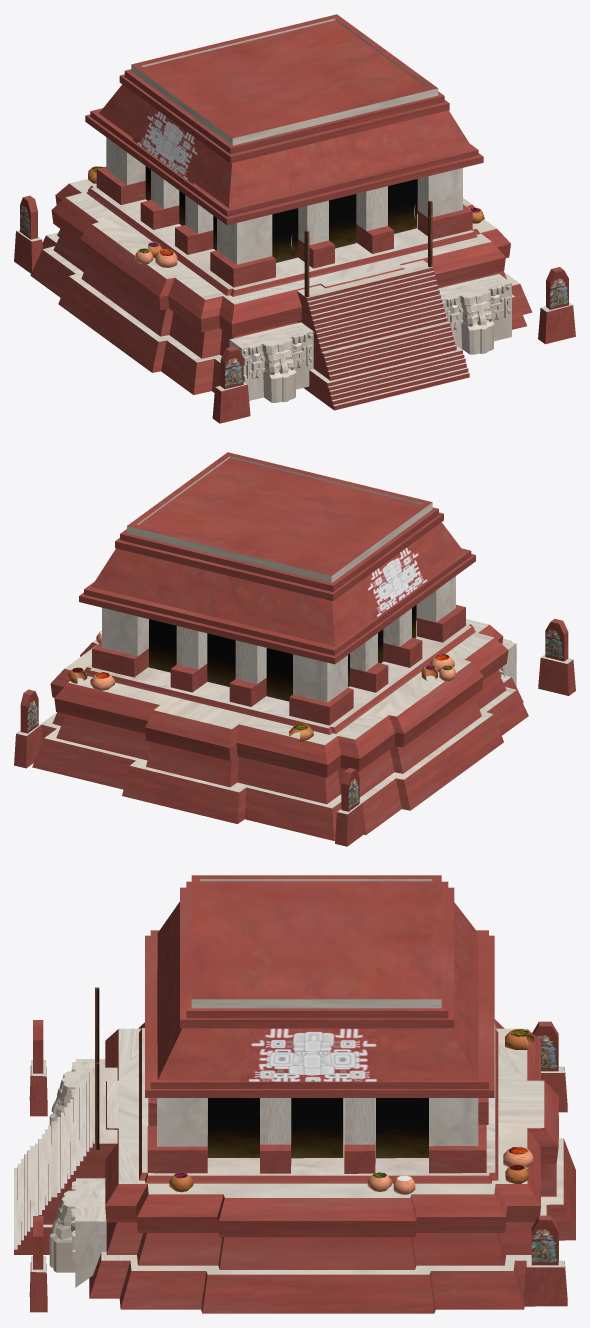
3 renders of one model, top to bottom at view 1: azimuth 30°, elevation 25°; view 2: azimuth 150°, elevation 25°; view 3: azimuth 270°, elevation 25°, orthographic. The views are drawn at different scales.
Parts seen in each view (by area): view 1: cc_3; view 2: cc_3; view 3: cc_3.
Part boxes in pixels (x1=…): cc_3: x1=14, y1=14, x2=575, y2=423; cc_3: x1=14, y1=452, x2=575, y2=846; cc_3: x1=14, y1=875, x2=575, y2=1313.
Bounding box in the file's own units: 27.06 × 29.91 × 16.44.
